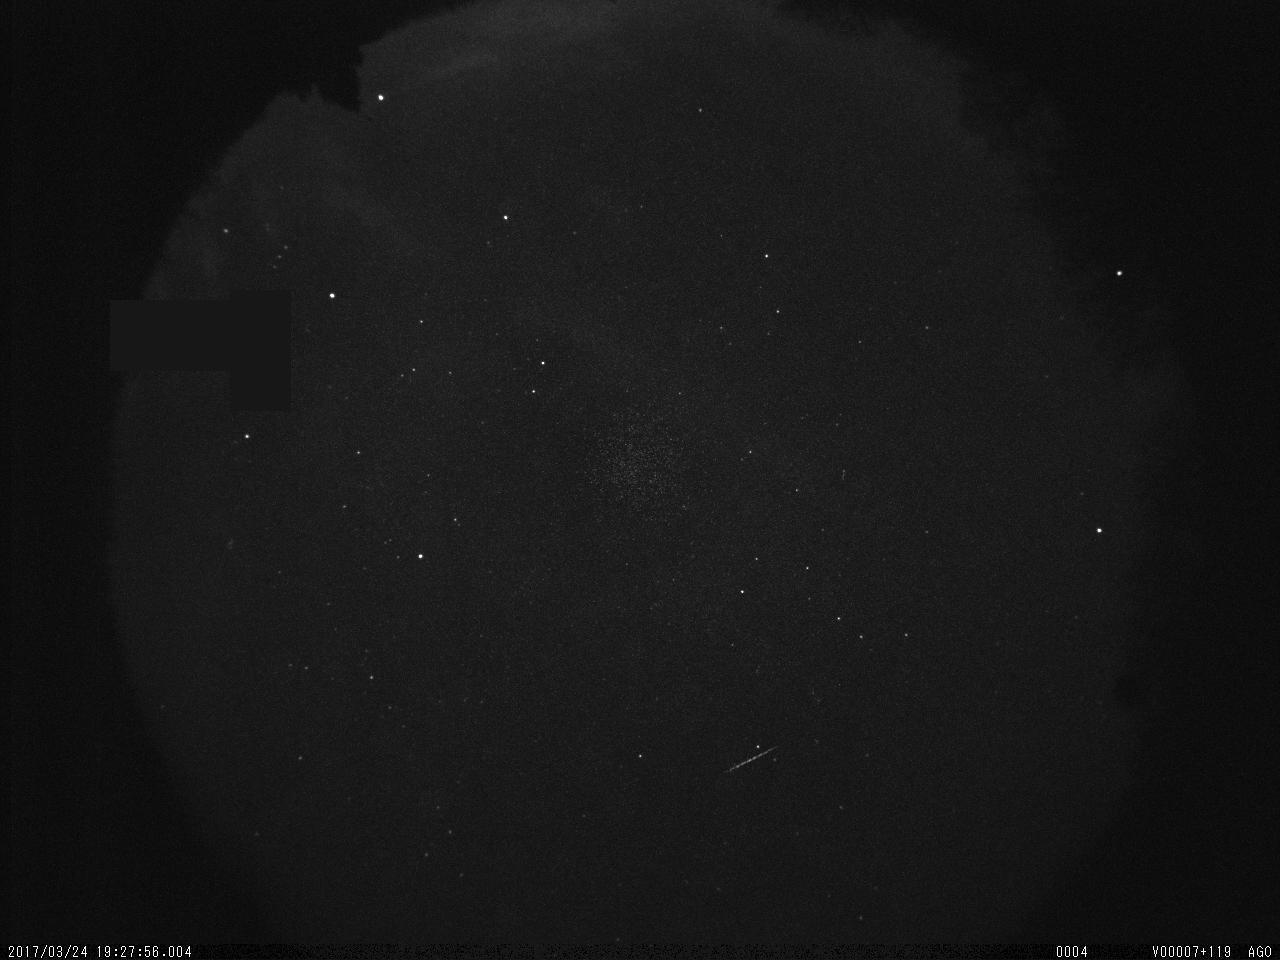meteor: (726, 735, 795, 778)
